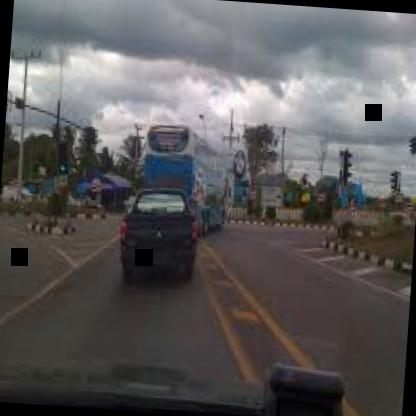car: (136, 127, 248, 250), (124, 183, 207, 291)
